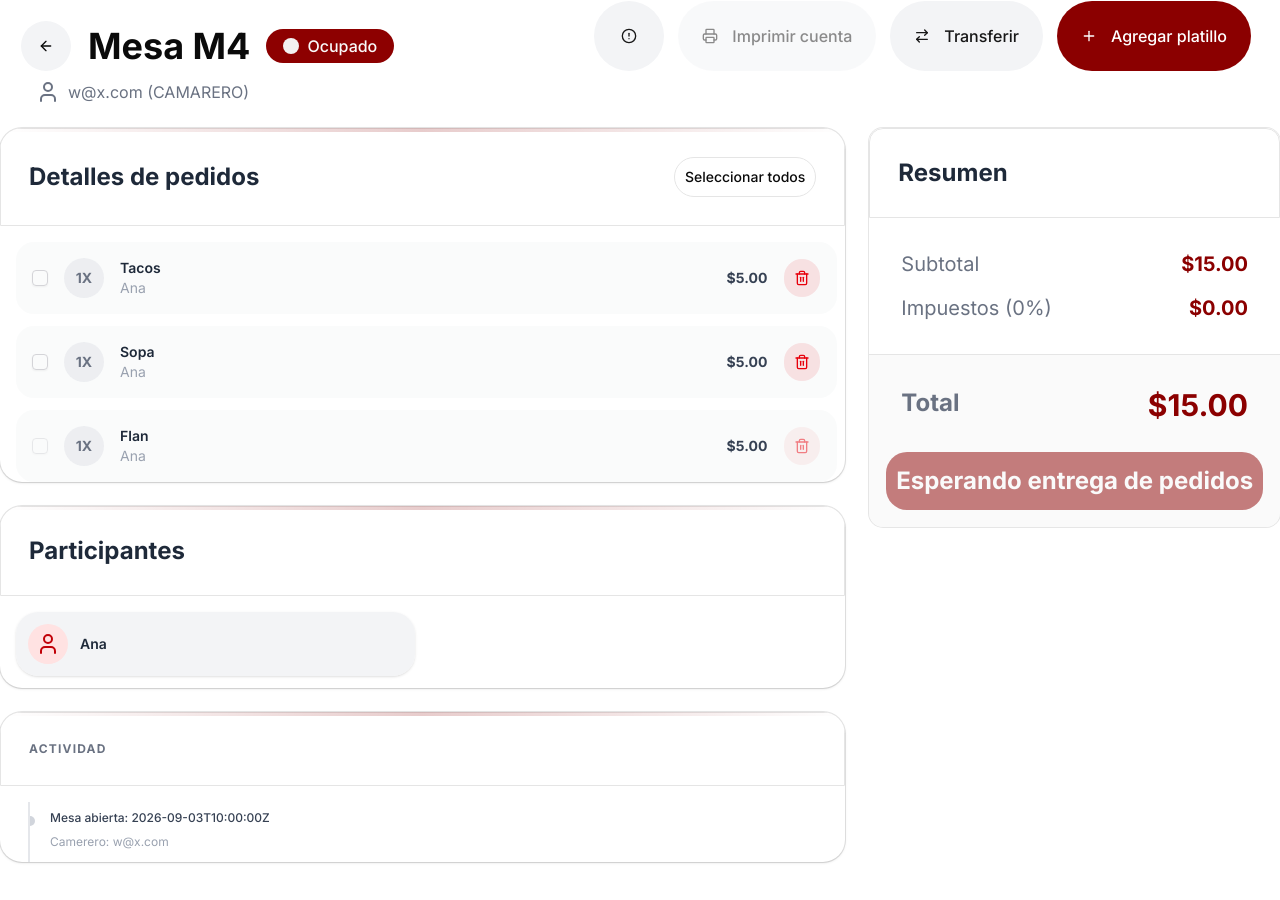
Scenario: TableInformation — select all + bulk delete › confirming deletes the selected items in ONE request and clears the selection
The width and height of the screenshot is (1280, 900).
Step 1. Click the button "Seleccionar todos" → (745, 177), box [674,157,816,197]
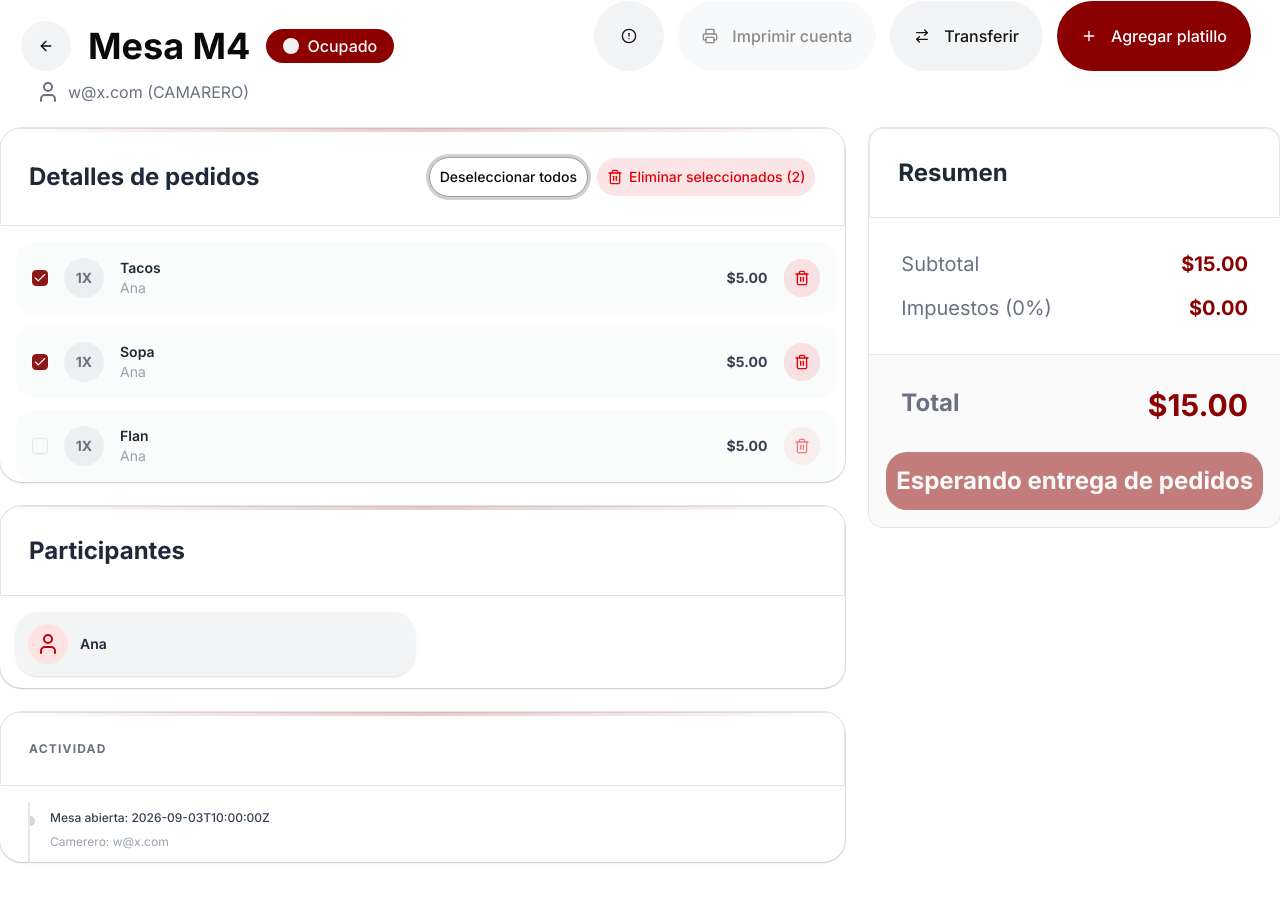
Step 2. Click the button "Eliminar seleccionados (2)" → (706, 177), box [596,157,816,197]
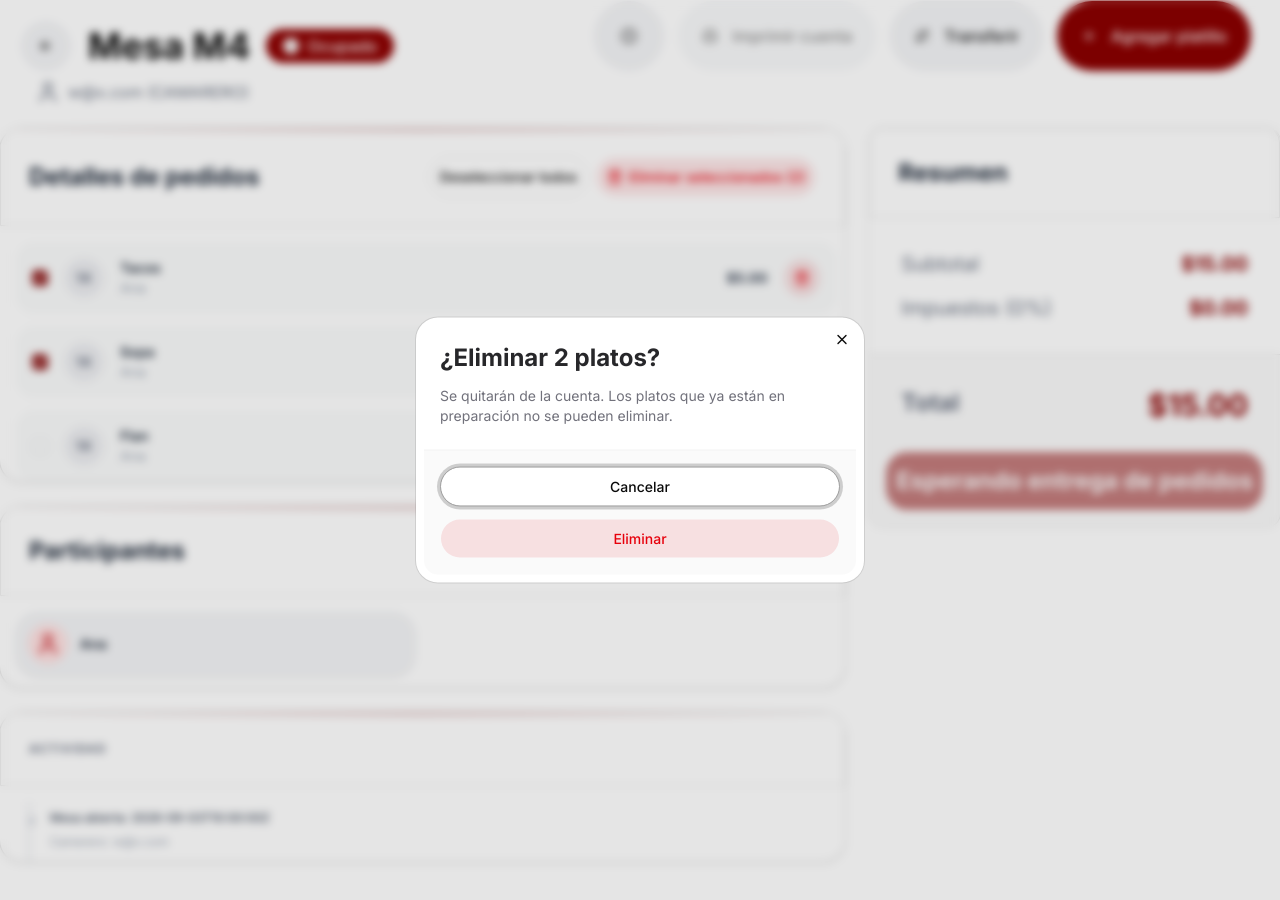
Result: the heading "¿Eliminar 2 platos?" is shown at [440,342,660,372]
Step 3. Click the button "Eliminar" → (640, 538), box [440,518,840,558]
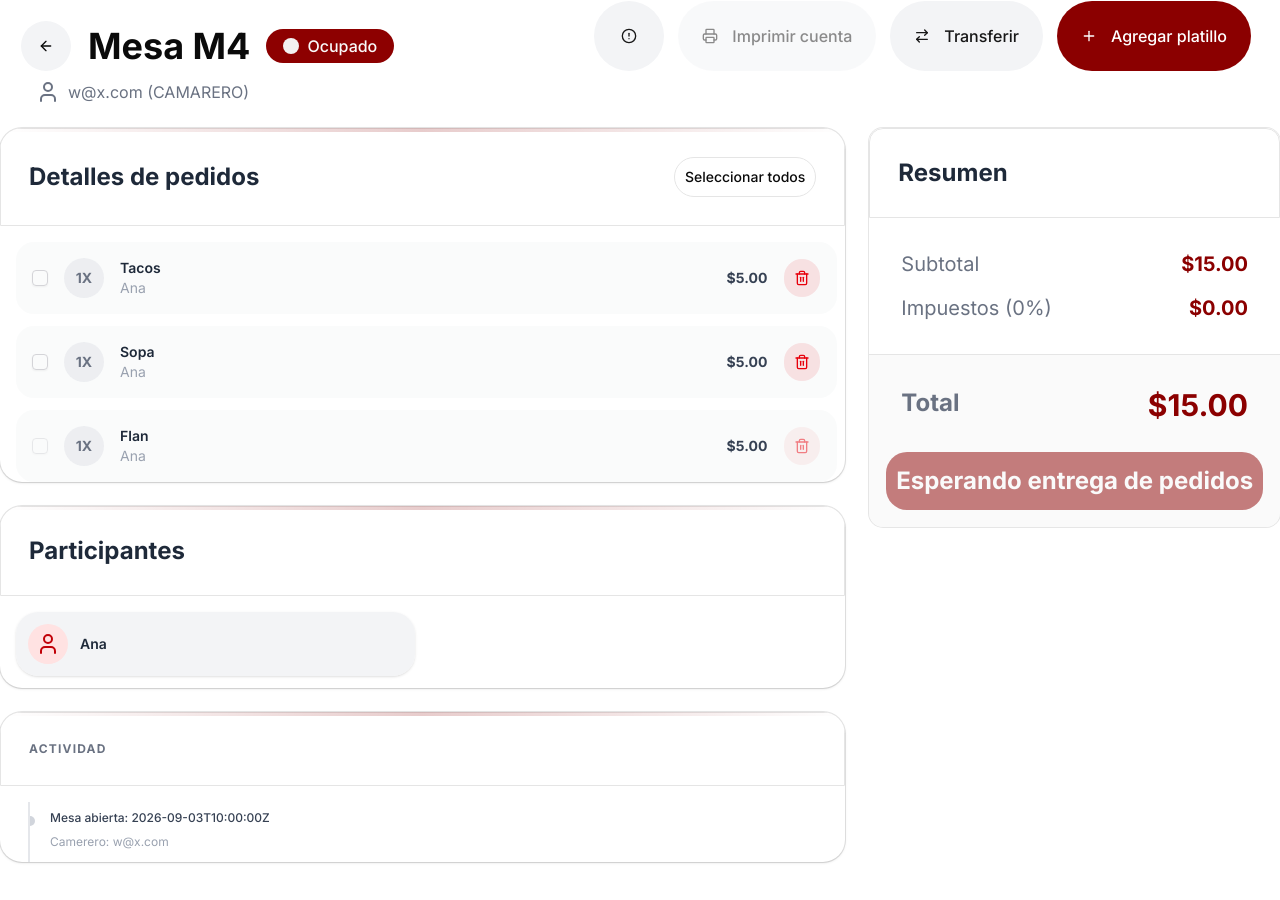
Result: the dialog is gone
Result: the button "Eliminar seleccionados" is gone
